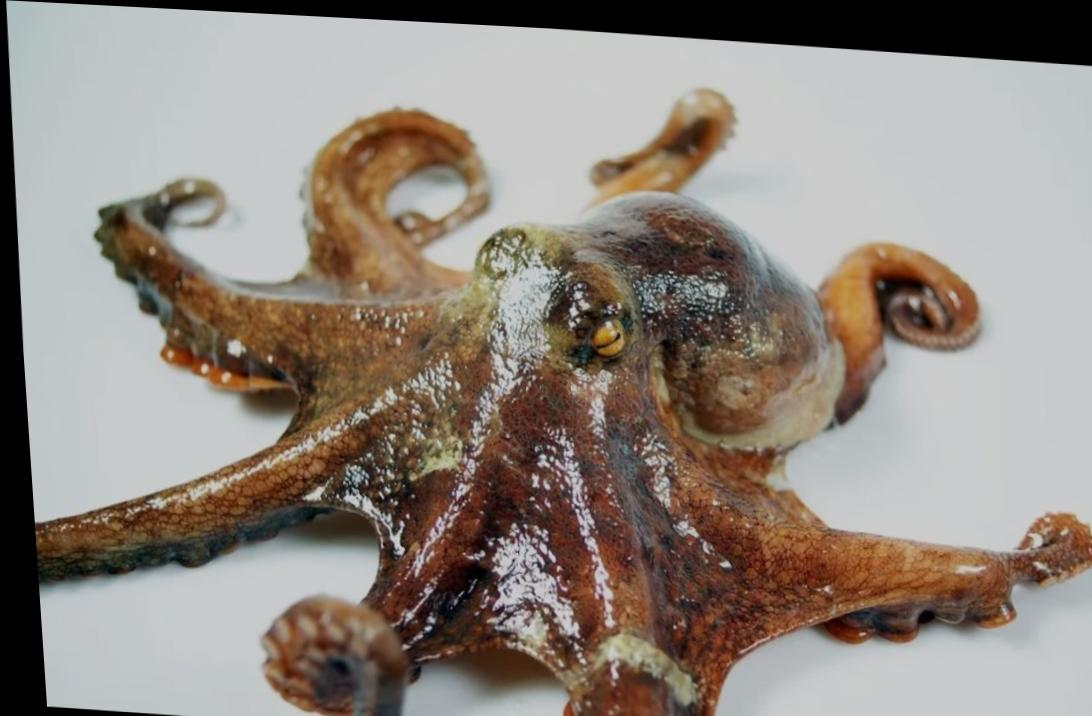Cephalopod: (27, 82, 1091, 716)
